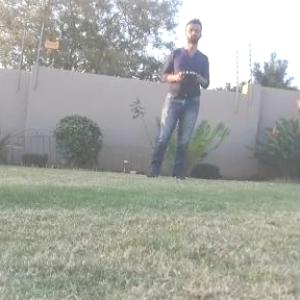follow: (140, 14, 214, 184)
